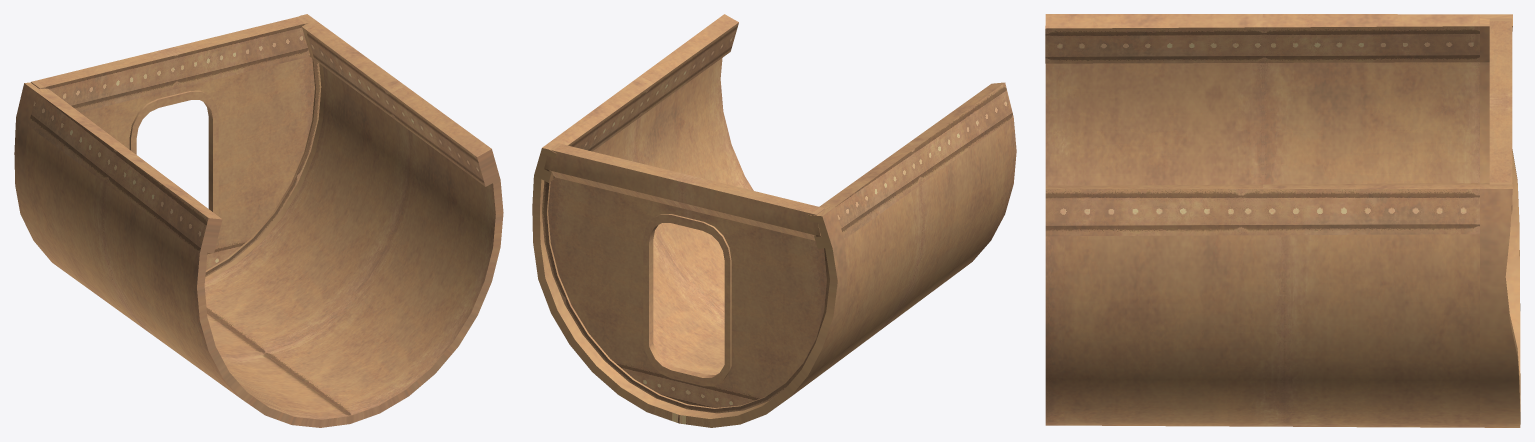
File: Small_WallConnector_A.fbx
The picture shows the model from 3 angles, left to right: view 1: azimuth 30°, elevation 25°; view 2: azimuth 150°, elevation 25°; view 3: azimuth 270°, elevation 25°; orthographic projection. The views are drawn at different scales.
Parts seen in each view (by area): view 1: Small_WallConnector_A; view 2: Small_WallConnector_A; view 3: Small_WallConnector_A.
Part boxes in pixels (<box>): Small_WallConnector_A: <box>14,14,503,427</box>; Small_WallConnector_A: <box>532,14,1016,427</box>; Small_WallConnector_A: <box>1045,14,1520,427</box>.
Bounding box in the file's own units: 4.01 × 3 × 4.23.
